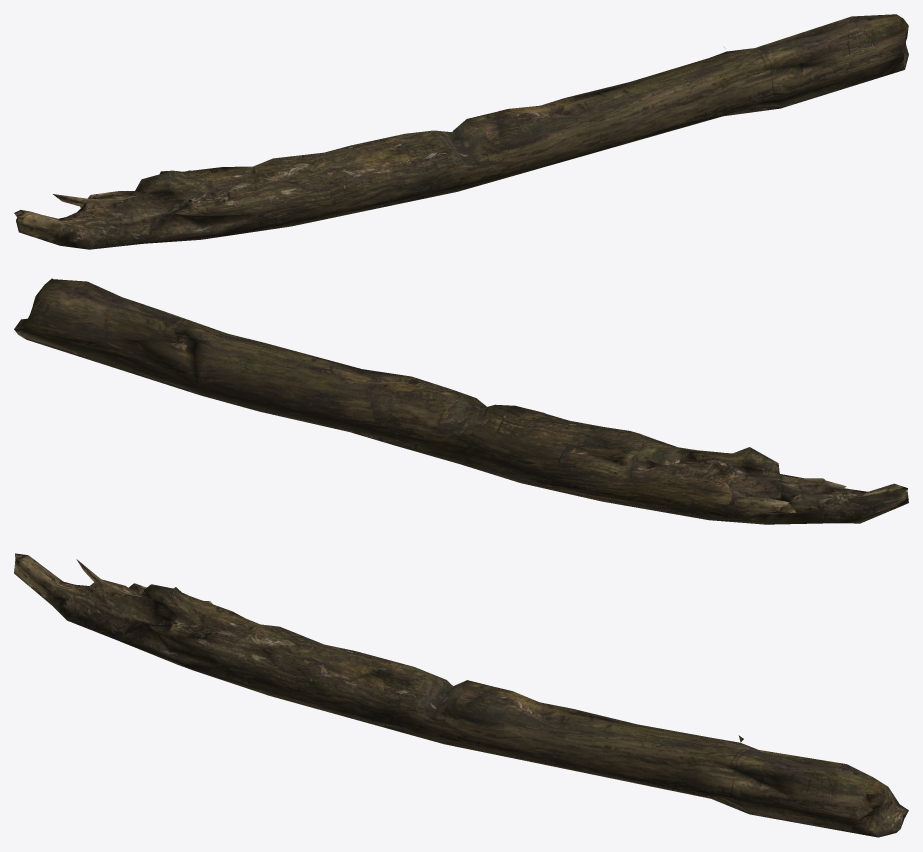
File: dead_tree_trunk.glb
3 renders of one model, top to bottom at view 1: azimuth 30°, elevation 25°; view 2: azimuth 150°, elevation 25°; view 3: azimuth 330°, elevation 25°, orthographic.
Visible parts, largest first — view 1: dead_tree_trunk; view 2: dead_tree_trunk; view 3: dead_tree_trunk.
Boxes of the visible parts, bbox=[...] form: dead_tree_trunk: bbox=[14, 14, 908, 249]; dead_tree_trunk: bbox=[14, 278, 908, 524]; dead_tree_trunk: bbox=[14, 553, 908, 837].
Size of the model in its own units: 3.04 by 0.2763 by 0.2726.
1 material, 1 textured.
